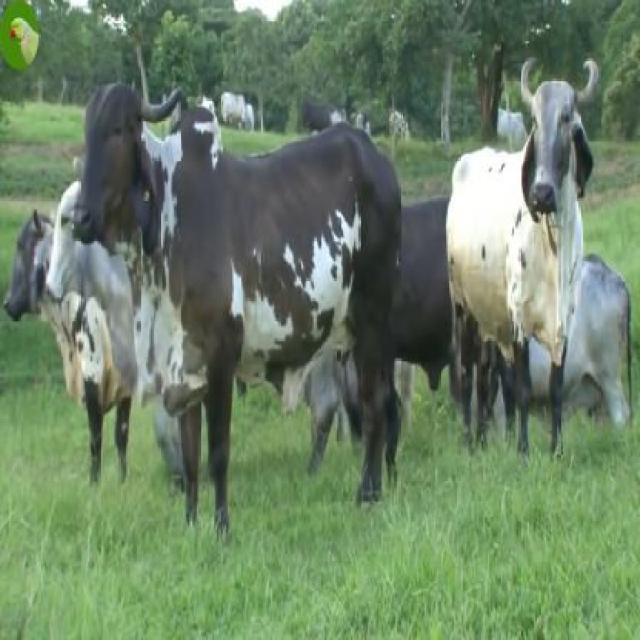Cow: (74, 79, 401, 518), (446, 57, 599, 451)
